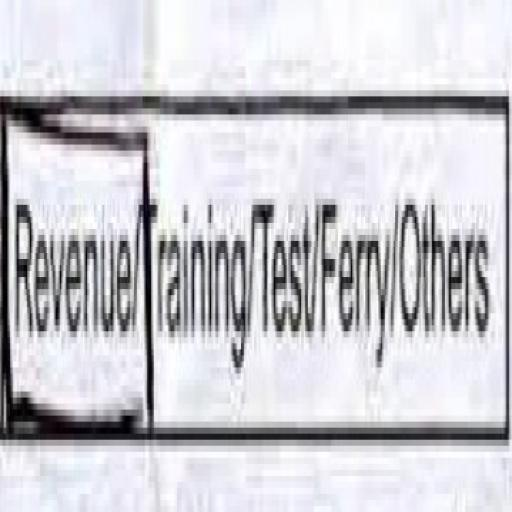check: (2, 33, 138, 512)
